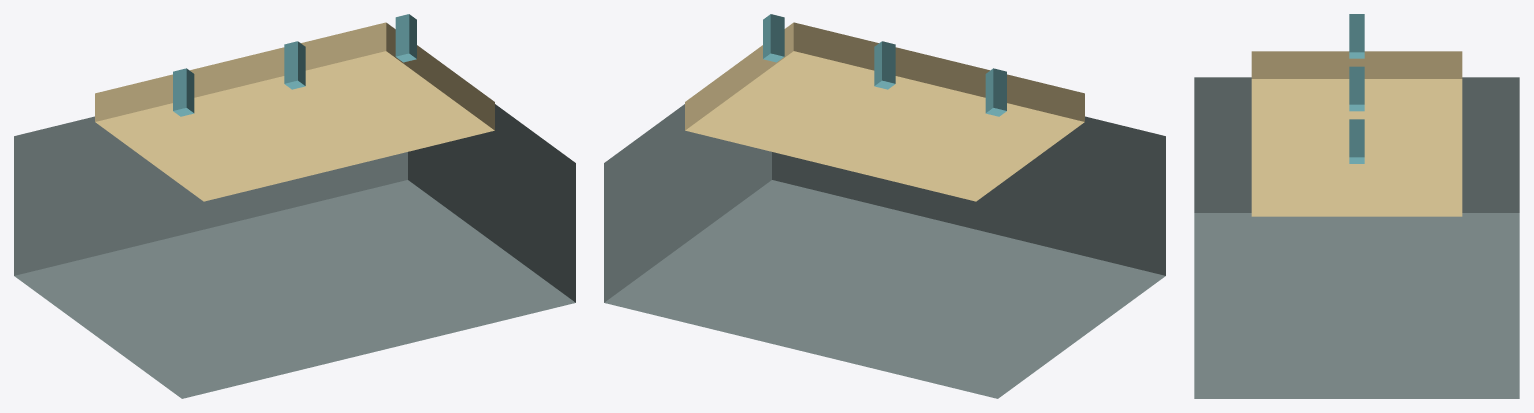
File: router-kit-v2.glb
3 views of the same model, side by side, from view 1: azimuth 30°, elevation 25°; view 2: azimuth 150°, elevation 25°; view 3: azimuth 270°, elevation 25° (orthographic). The views are drawn at different scales.
Size of the model in its own units: 2.3 by 1.36 by 1.7.
